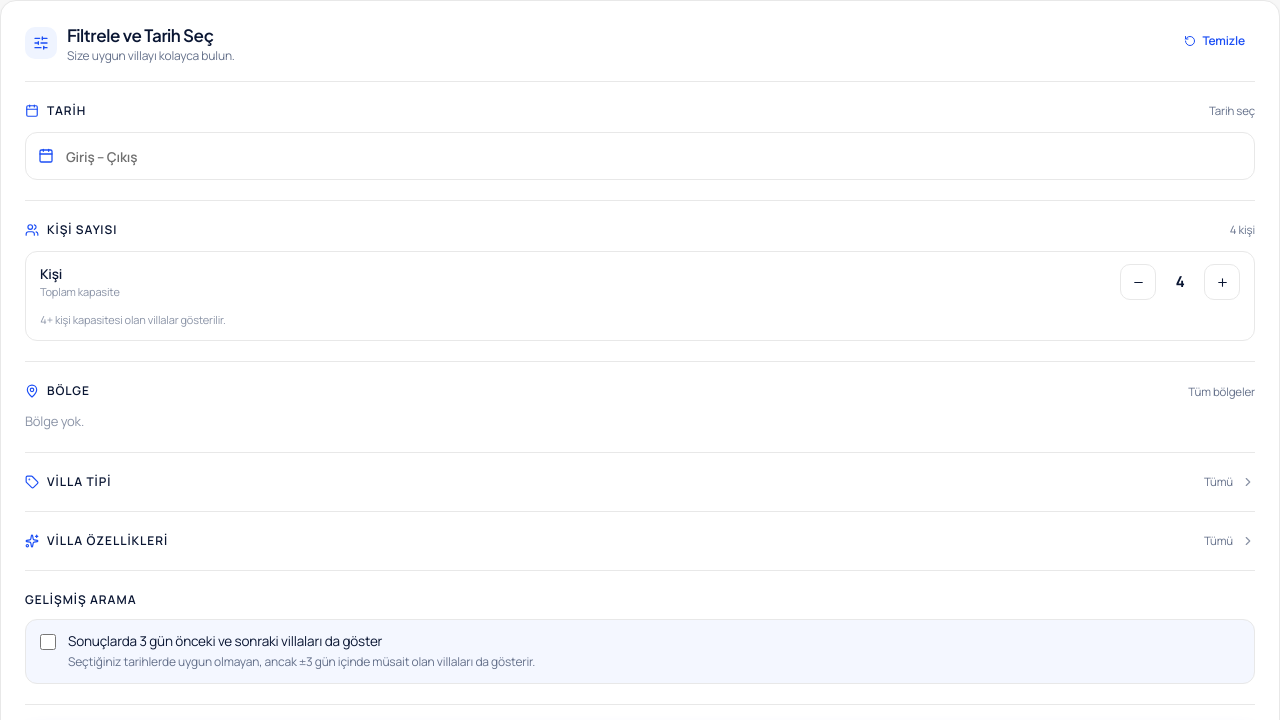
Test: I) sidebar — accordion davranışı › 31) VİLLA TİPİ başlığına tıklayınca AÇILIR, tekrar tıklayınca KAPANIR
Step 1. Click the button "Villa Tipi Tümü" → [79, 481], box [25,473,1255,491]
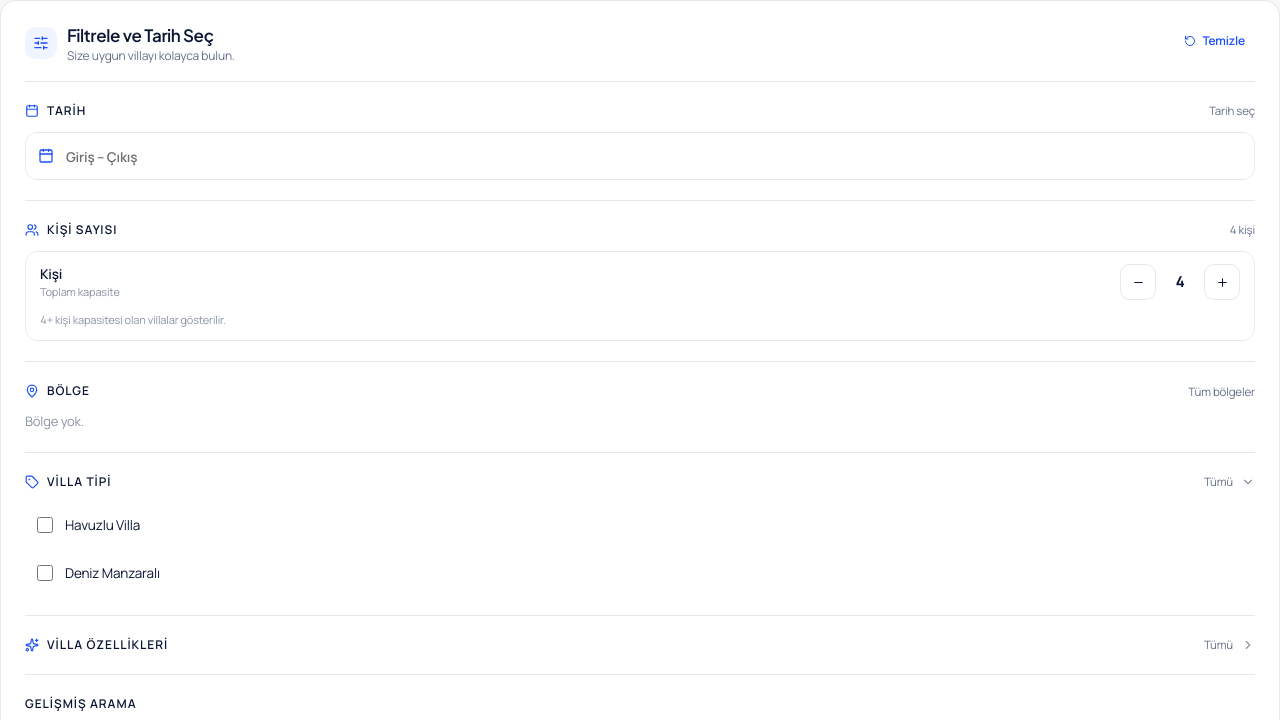
Now the text "Havuzlu Villa" is shown, box [65,515,140,535]
Now the button "Villa Tipi Tümü" is expanded
Step 2. Click the button "Villa Tipi Tümü" → [79, 481], box [25,473,1255,491]
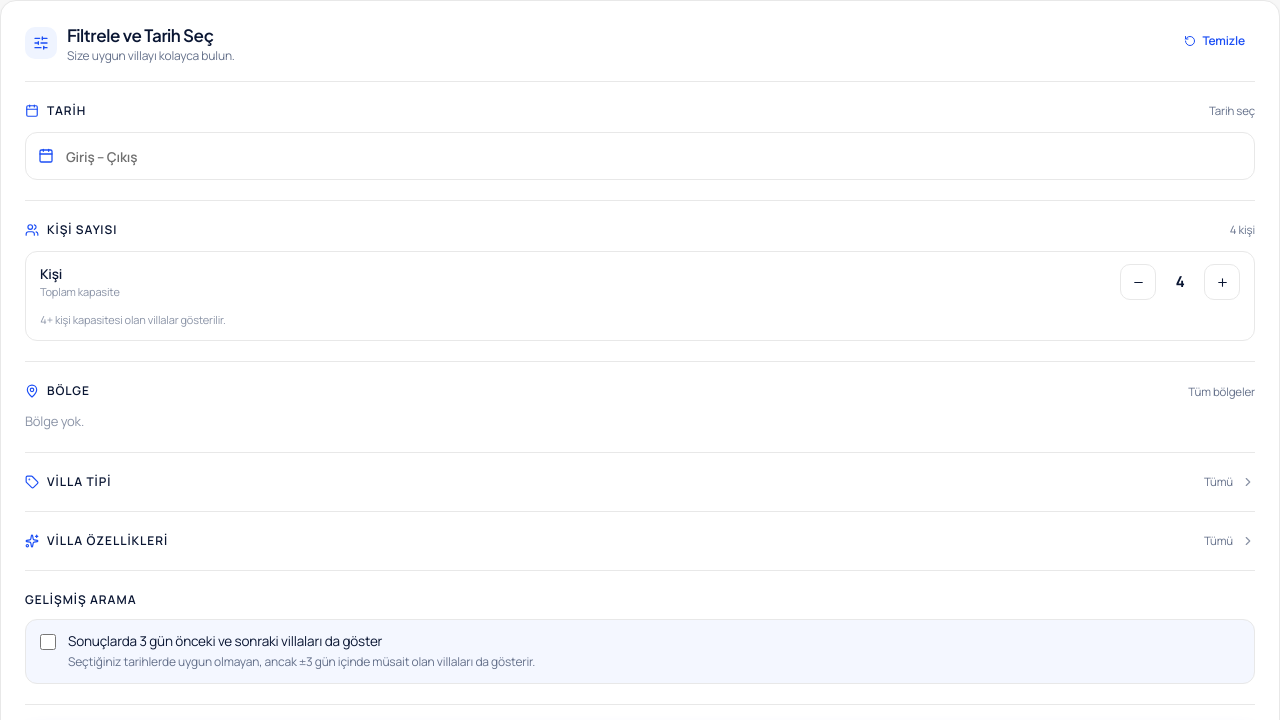
Now the text "Havuzlu Villa" is not shown
